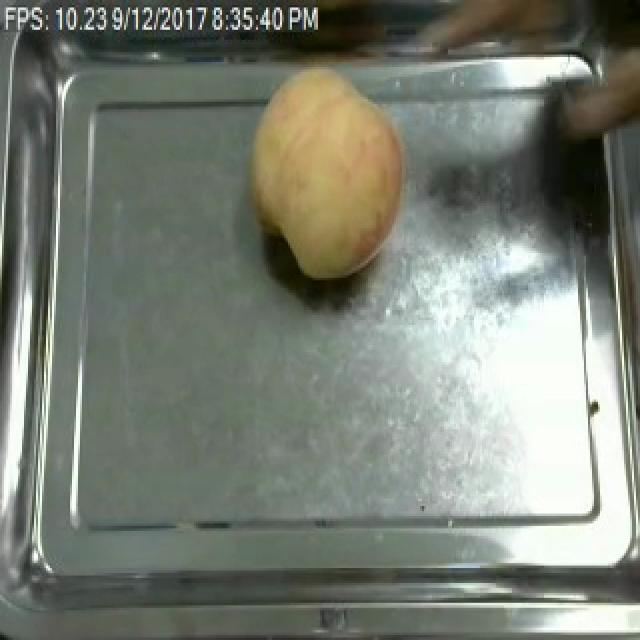Fruit: (238, 55, 416, 288)
